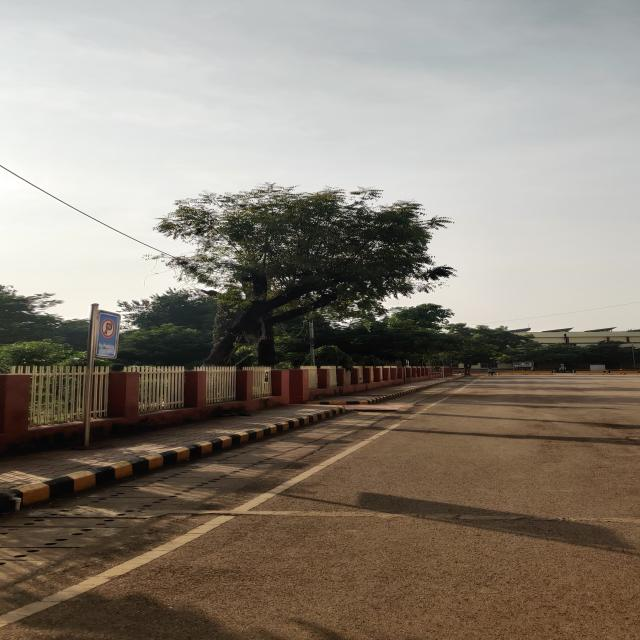Neem Tree: (161, 182, 463, 311)
